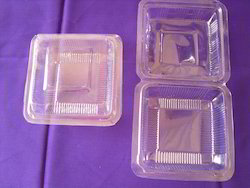PlasticBox: (20, 31, 125, 128)
